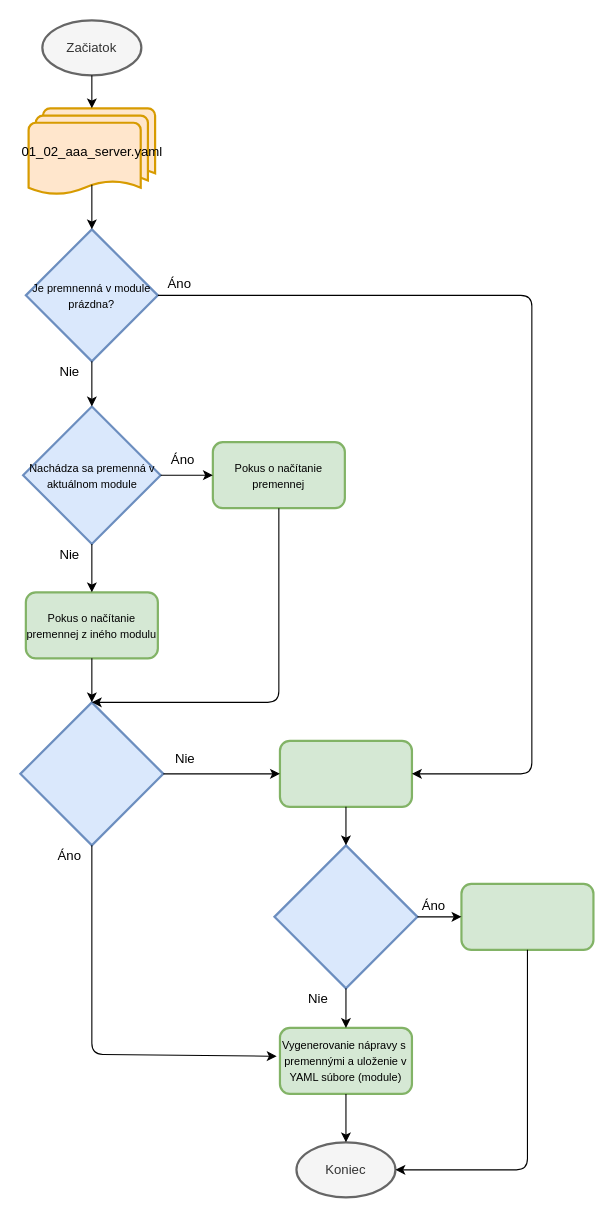
The diagram is 613 pixels wide and 1217 high, and some of its shapes have lost their labels. The centre of each missing label's shape, as x and y in pixels:
Bolo načítanie úspešné?: [91,773]
Je premenná prázdna v own_variables.yaml?: [345,916]
Načítanie z own_variables.yaml: [345,773]
Uloženie chybového komentára v YAML súbore (module): [527,916]
